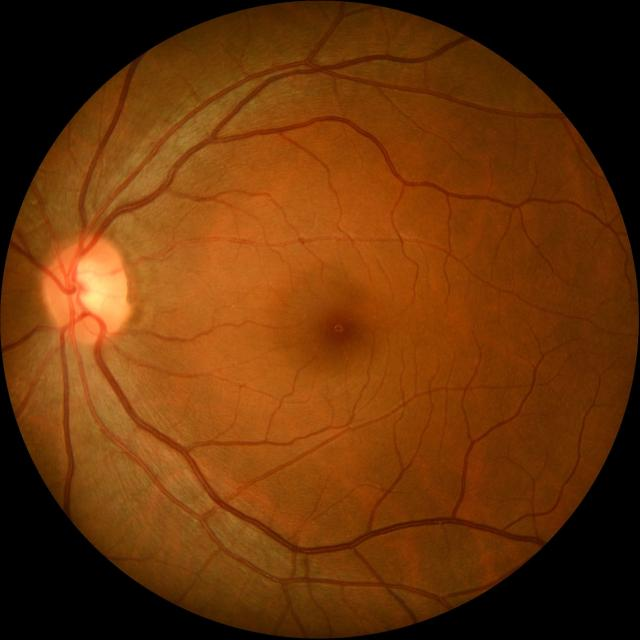OC: (70, 256, 108, 312)
OD: (45, 237, 126, 337)
